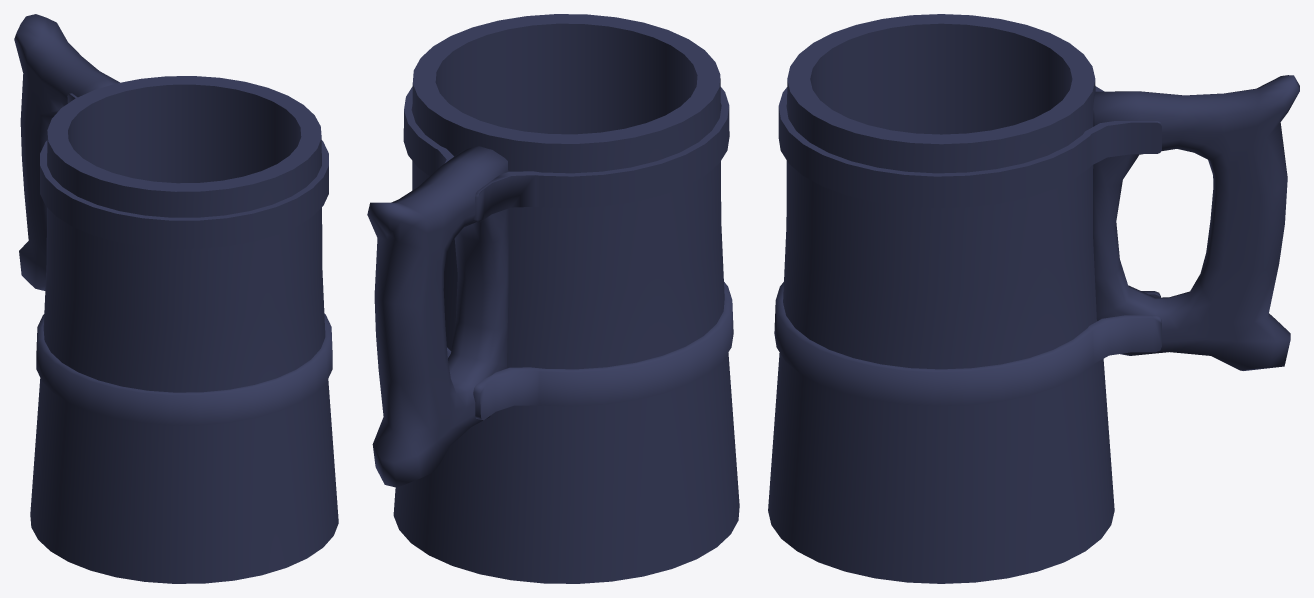
Rendered from junk.obj.
The picture shows the model from 3 angles, left to right: view 1: azimuth 30°, elevation 25°; view 2: azimuth 150°, elevation 25°; view 3: azimuth 270°, elevation 25°; orthographic projection. The views are drawn at different scales.
Visible parts, largest first — view 1: Plane.001; view 2: Plane.001; view 3: Plane.001.
Part boxes in pixels (x1,y1,x2,y2): Plane.001: (14, 14, 338, 583); Plane.001: (367, 14, 739, 583); Plane.001: (768, 14, 1299, 583).
Bounding box in the file's own units: 2 × 2.77 × 3.07.
